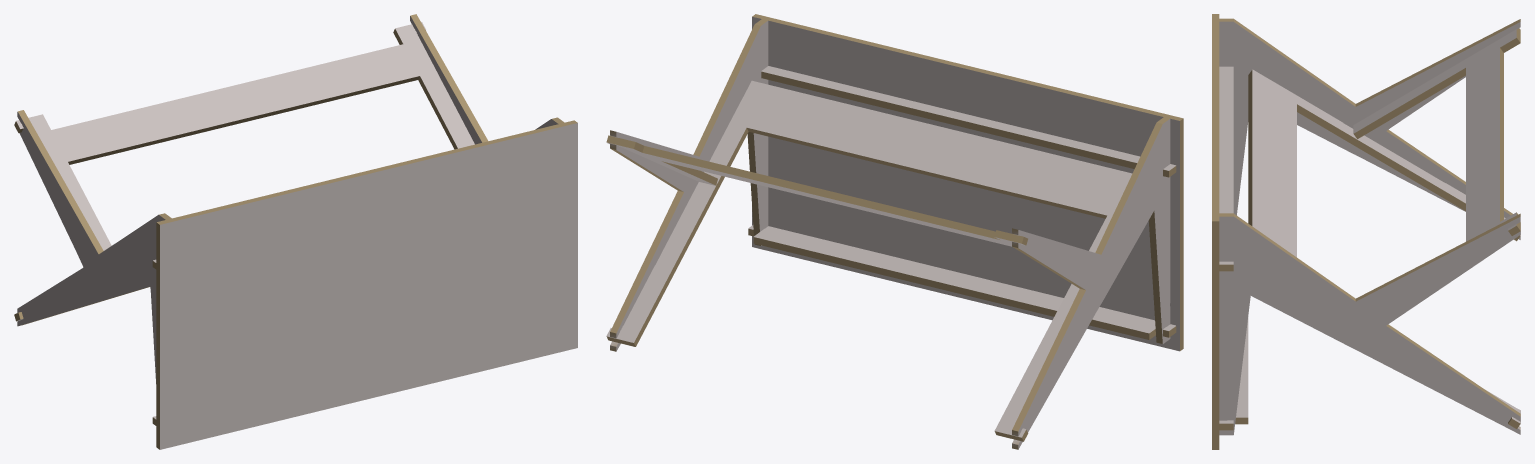
Rendered from NODO_ESCRITORIO_ESCULTORICO_PARAISO_FINAL_SIN_ENCASTRES_REAL_V6 (1).glb.
3 views of the same model, side by side, from view 1: azimuth 30°, elevation 25°; view 2: azimuth 150°, elevation 25°; view 3: azimuth 270°, elevation 25° (orthographic). The views are drawn at different scales.
Visible parts, largest first — view 1: G_Tapa_Superior_CARAS_COLOR_REAL, B_Escuadra_Trasera_PIEL_LISA_1, D_Lateral_Izq_PIEL_LISA_-1, G_Tapa_Superior_CANTO_MDF, B_Escuadra_Trasera_canto, D_Lateral_Izq_cuerpo, D_Lateral_Izq_canto, C_Lateral_Der_canto, C_Lateral_Der_PIEL_LISA_-1; view 2: G_Tapa_Superior_CARAS_COLOR_REAL, A_Escuadra_Delantera_PIEL_LISA_1, D_Lateral_Izq_PIEL_LISA_-1, F_Traba_Delantera_PIEL_LISA_1, A_Escuadra_Delantera_cuerpo, C_Lateral_Der_PIEL_LISA_-1, B_Escuadra_Trasera_canto, D_Lateral_Izq_canto, C_Lateral_Der_canto, E_Traba_Trasera_PIEL_LISA_1, E_Traba_Trasera_canto, F_Traba_Delantera_canto (+5 smaller); view 3: C_Lateral_Der_PIEL_LISA_1, D_Lateral_Izq_PIEL_LISA_1, A_Escuadra_Delantera_PIEL_LISA_1, B_Escuadra_Trasera_PIEL_LISA_1, G_Tapa_Superior_CANTO_MDF, C_Lateral_Der_cuerpo, A_Escuadra_Delantera_canto, E_Traba_Trasera_PIEL_LISA_1, D_Lateral_Izq_cuerpo, B_Escuadra_Trasera_canto, C_Lateral_Der_canto, A_Escuadra_Delantera_cuerpo (+3 smaller).
Boxes of the visible parts, x1,y1,x2,y2 form: G_Tapa_Superior_CARAS_COLOR_REAL: (160,123,577,449); B_Escuadra_Trasera_PIEL_LISA_1: (16,22,474,250); D_Lateral_Izq_PIEL_LISA_-1: (17,112,164,330); G_Tapa_Superior_CANTO_MDF: (156,120,577,449); B_Escuadra_Trasera_canto: (14,29,457,164); D_Lateral_Izq_cuerpo: (17,112,165,383); D_Lateral_Izq_canto: (18,110,171,325); C_Lateral_Der_canto: (410,14,564,142); C_Lateral_Der_PIEL_LISA_-1: (410,16,557,144); G_Tapa_Superior_CARAS_COLOR_REAL: (752,16,1179,351); A_Escuadra_Delantera_PIEL_LISA_1: (606,80,1132,437); D_Lateral_Izq_PIEL_LISA_-1: (1018,119,1170,448); F_Traba_Delantera_PIEL_LISA_1: (749,225,1175,332); A_Escuadra_Delantera_cuerpo: (607,127,1106,437); C_Lateral_Der_PIEL_LISA_-1: (616,21,768,350); B_Escuadra_Trasera_canto: (606,135,1027,245); D_Lateral_Izq_canto: (1012,117,1169,449); C_Lateral_Der_canto: (610,19,767,351); E_Traba_Trasera_PIEL_LISA_1: (761,66,1175,170); E_Traba_Trasera_canto: (761,71,1176,177); F_Traba_Delantera_canto: (748,228,1176,339); C_Lateral_Der_PIEL_LISA_1: (1219,216,1520,435); D_Lateral_Izq_PIEL_LISA_1: (1219,22,1520,239); A_Escuadra_Delantera_PIEL_LISA_1: (1252,69,1520,423); B_Escuadra_Trasera_PIEL_LISA_1: (1353,29,1516,241); G_Tapa_Superior_CANTO_MDF: (1212,14,1219,449); C_Lateral_Der_cuerpo: (1219,217,1520,434); A_Escuadra_Delantera_canto: (1248,70,1520,428); E_Traba_Trasera_PIEL_LISA_1: (1219,66,1233,264); D_Lateral_Izq_cuerpo: (1219,21,1520,239); B_Escuadra_Trasera_canto: (1354,28,1520,235); C_Lateral_Der_canto: (1219,213,1520,429); A_Escuadra_Delantera_cuerpo: (1252,70,1520,423).
Size of what is drawn, in the model's own units: 1.22 by 0.628 by 0.7686.
